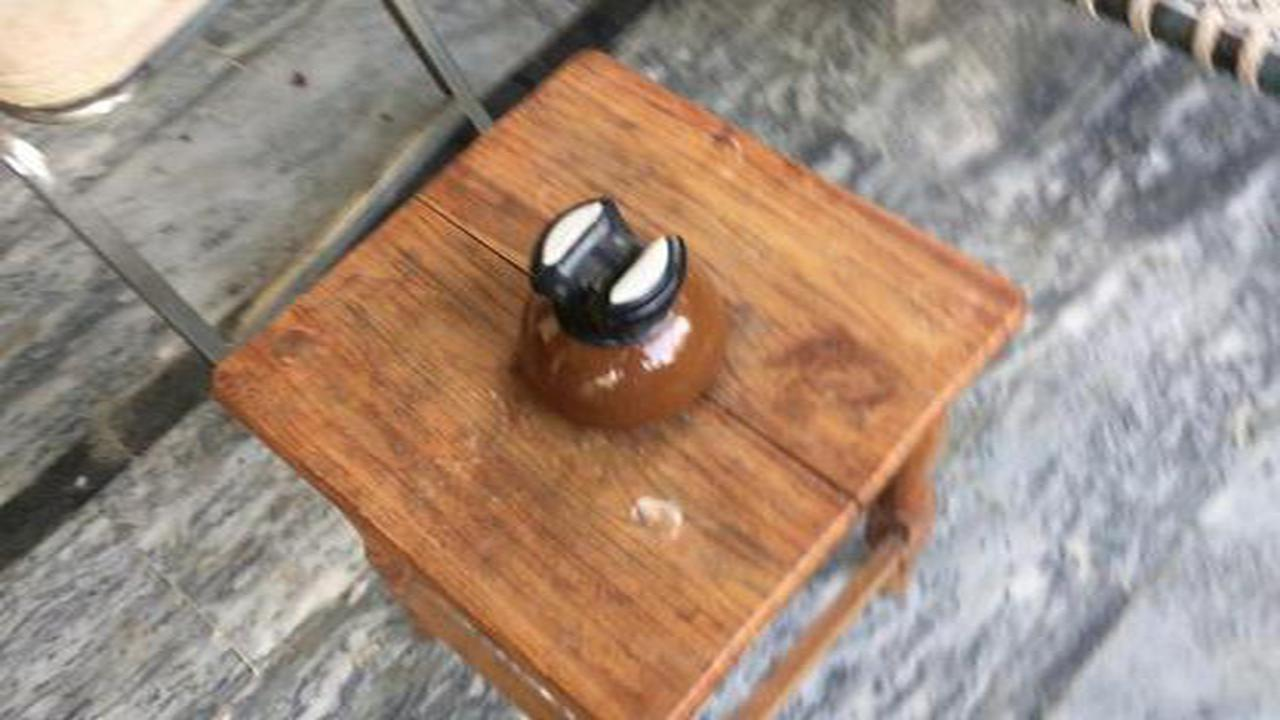insulator_pin: (493, 184, 748, 442)
